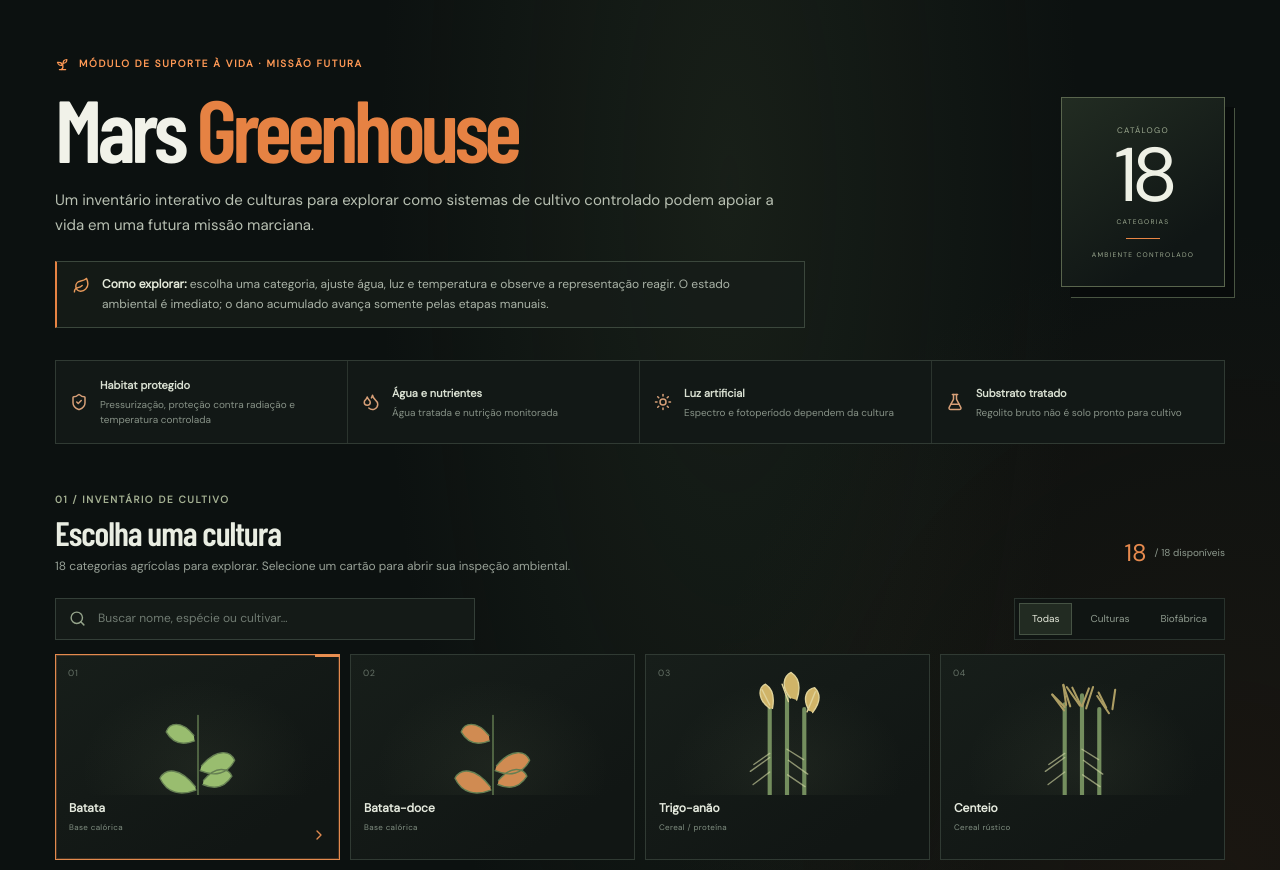
Test: inventário interativo da Mars Greenhouse › busca por espécie, filtra culturas e encontra a biofábrica
Type "Raphanus sativus" into the search field named "Buscar cultura".
click(278, 619); type("Raphanus sativus")  # box [96, 608, 461, 630]
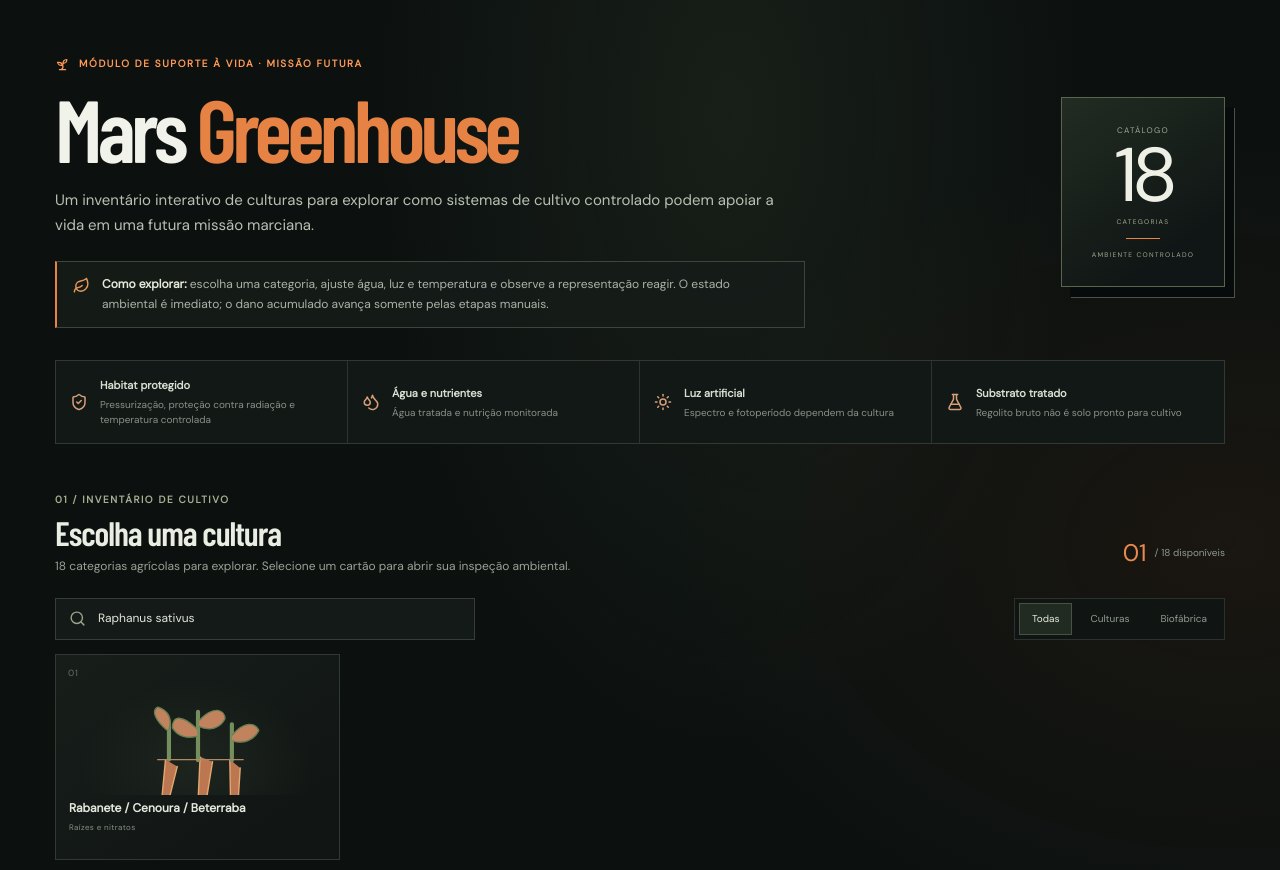
Expected: the number of buttons named "Inspecionar " is 1, [55, 654, 340, 860]
Clear the search field named "Buscar cultura" at [278, 619], box [96, 608, 461, 630]
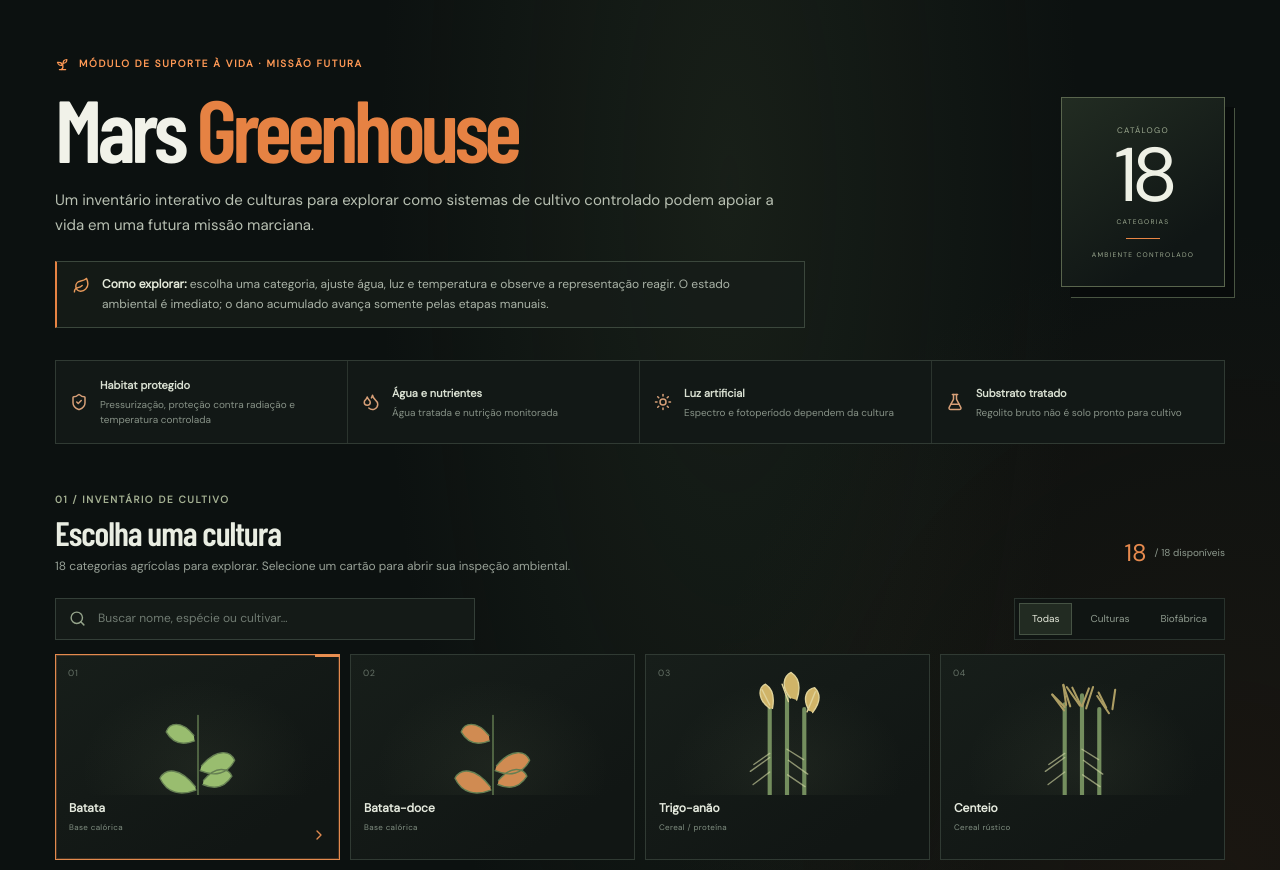
Click the button "Biofábrica".
click(1184, 619)  # box [1147, 603, 1220, 635]
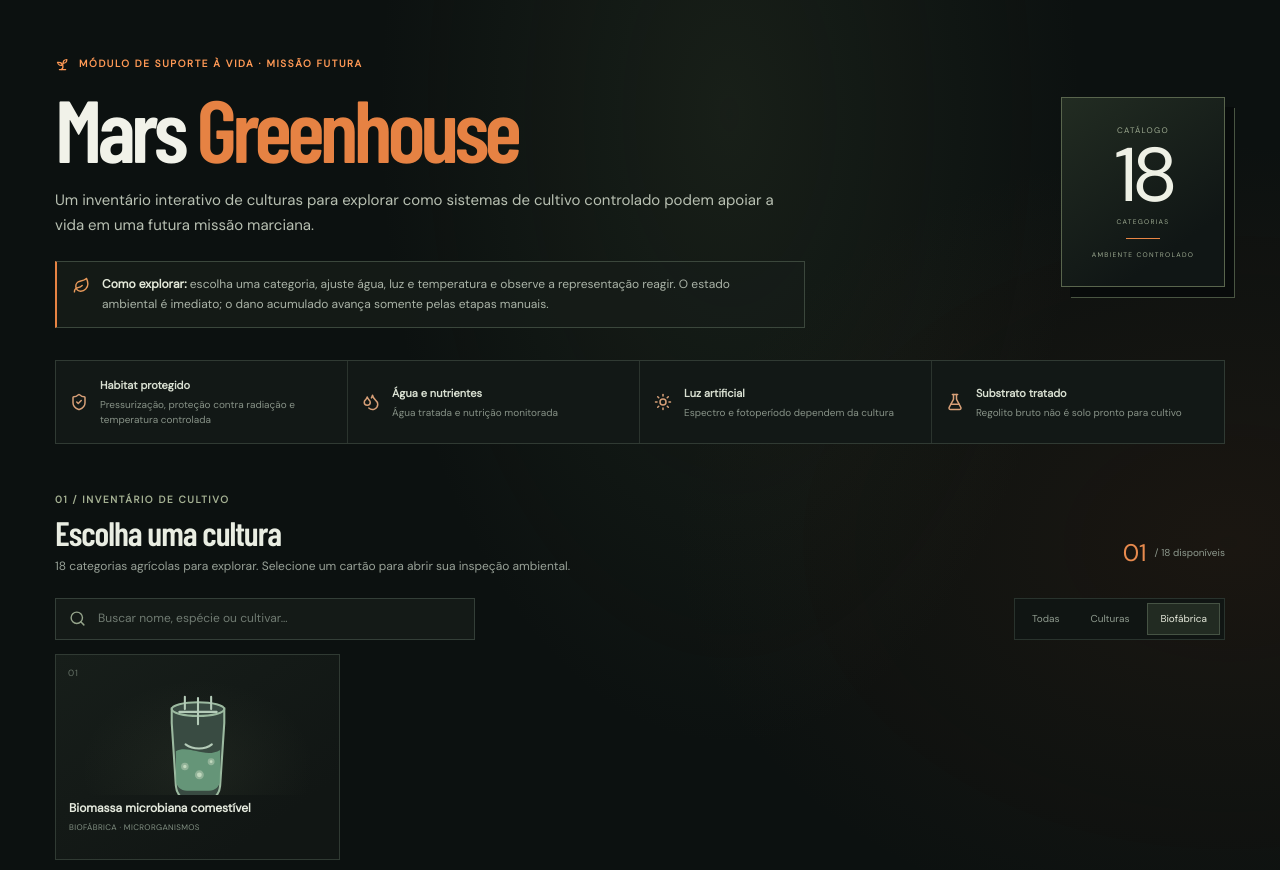
Expected: the text "BIOFÁBRICA · MICRORGANISMOS" is shown, [69, 822, 200, 832]
Expected: the number of buttons named "Inspecionar " is 1, [55, 654, 340, 860]
Type "não existe" into the search field named "Buscar cultura".
click(278, 619); type("não existe")  # box [96, 608, 461, 630]
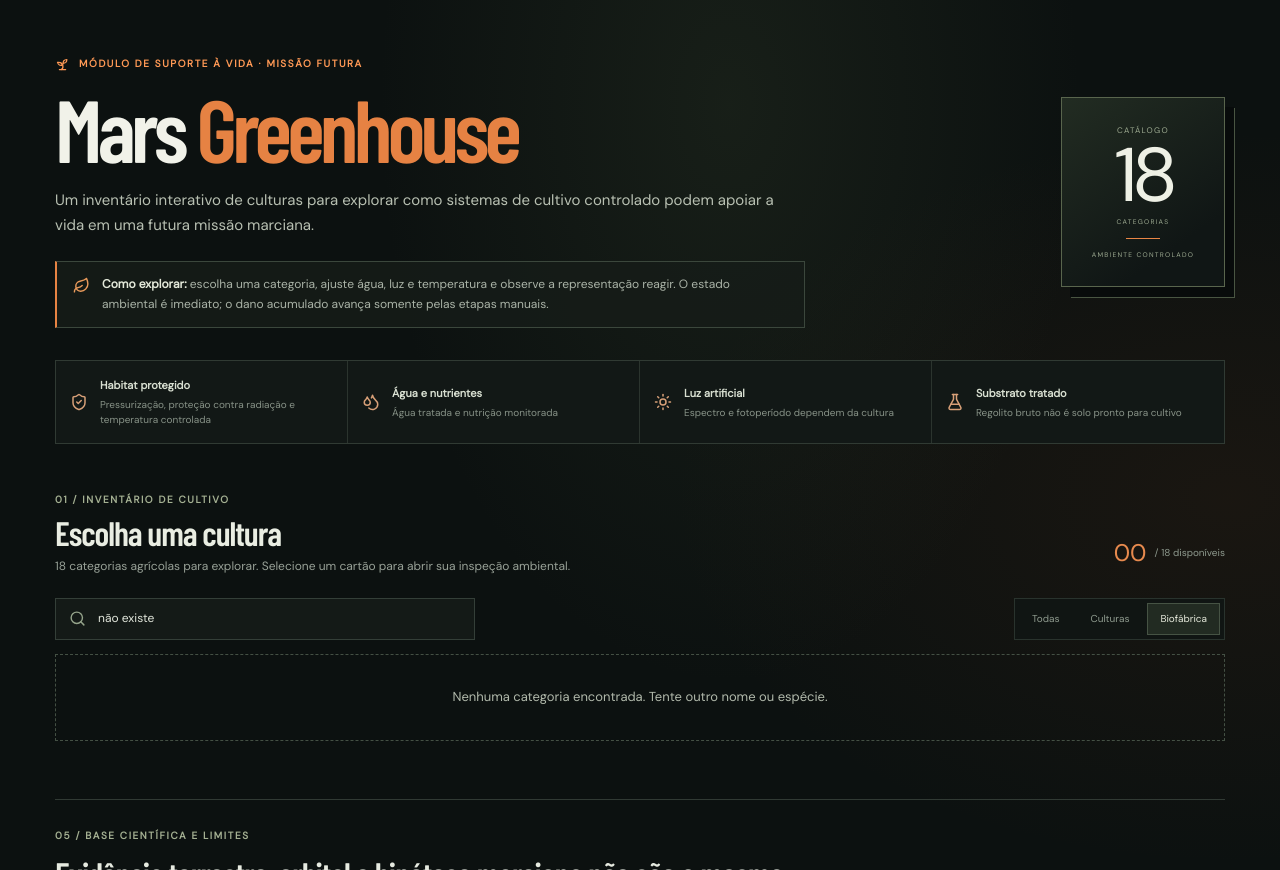
Expected: the text "Nenhuma categoria encontrada. Tente outro nome ou espécie." is shown, [55, 654, 1225, 741]
